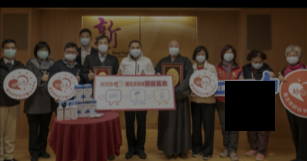with_mask: (286, 51, 300, 65), (129, 44, 142, 58), (3, 45, 16, 58), (97, 40, 109, 54), (250, 58, 264, 70), (37, 47, 49, 60), (168, 43, 180, 56), (80, 33, 91, 47), (65, 49, 77, 61), (195, 51, 206, 63), (223, 50, 234, 62)
